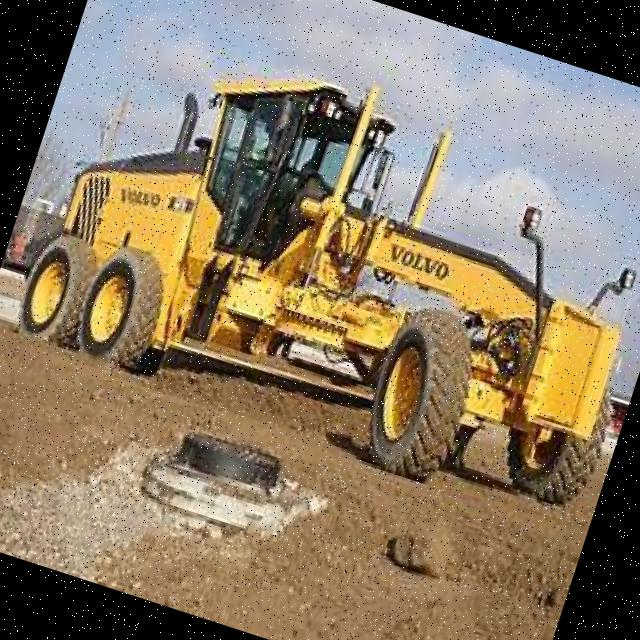Grader: (0, 0, 640, 554)
